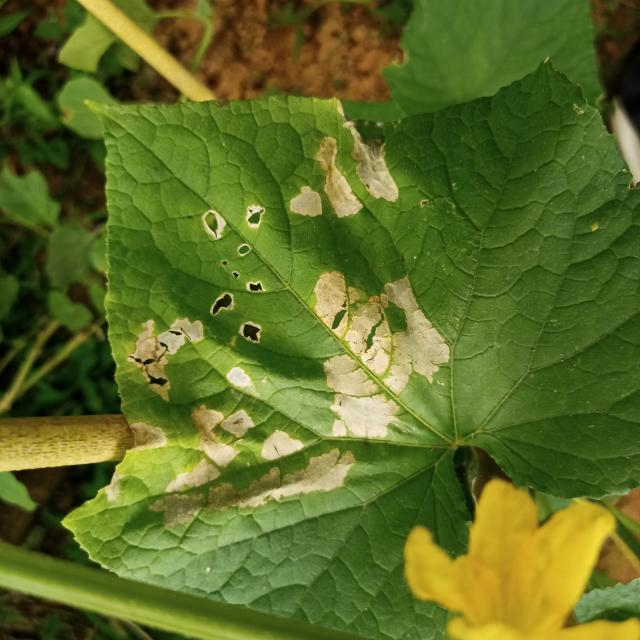disease_cucumber: (128, 121, 451, 534)
